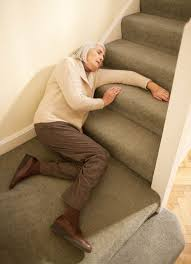falling: (21, 39, 143, 259)
